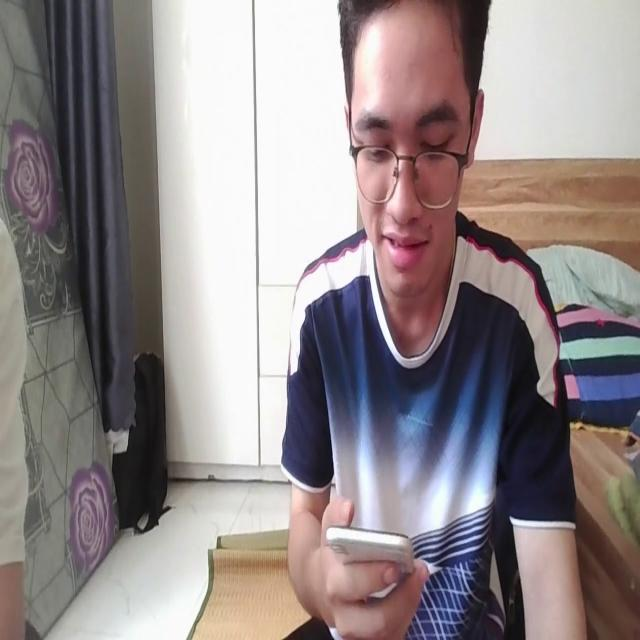phone: (323, 506, 425, 590)
student: (278, 0, 590, 640)
